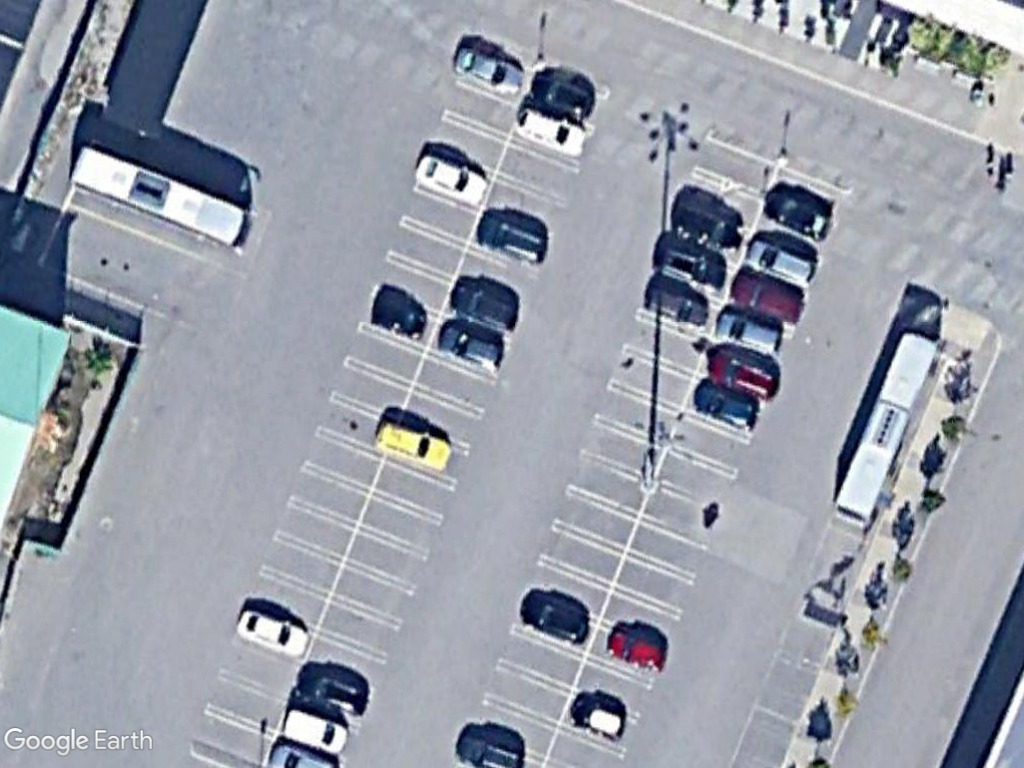bus: (828, 328, 946, 533), (61, 143, 256, 253)
car: (447, 38, 530, 103), (725, 267, 813, 326), (370, 416, 457, 474), (758, 183, 838, 245), (507, 100, 589, 160), (410, 153, 496, 210), (742, 232, 826, 290), (514, 587, 593, 647), (444, 280, 526, 336), (709, 302, 791, 358), (699, 343, 780, 399), (230, 607, 318, 657), (272, 704, 352, 759), (292, 661, 375, 714), (686, 379, 764, 434), (471, 209, 547, 265), (433, 315, 507, 372), (526, 64, 598, 120), (602, 627, 675, 674), (368, 295, 435, 343)
